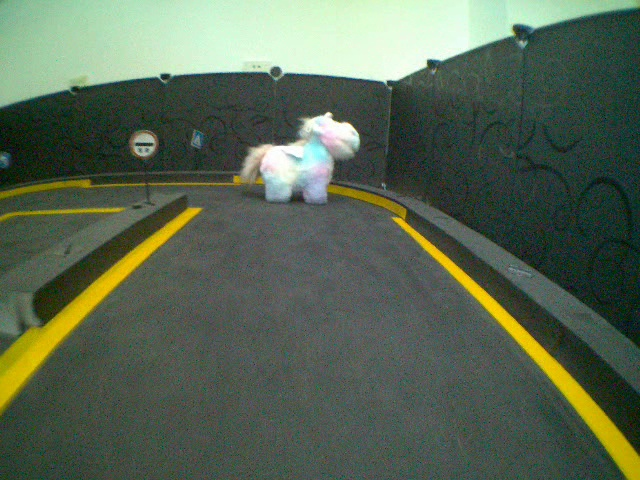unicorn: (240, 110, 365, 205)
